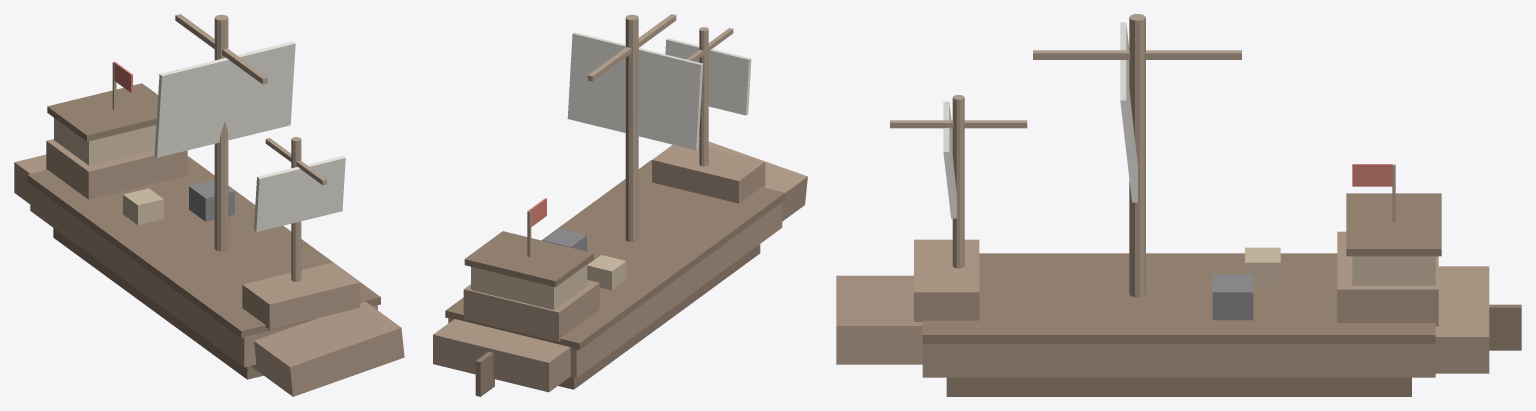
Rendered from SHIP.glb.
3 views of the same model, side by side, from view 1: azimuth 30°, elevation 25°; view 2: azimuth 150°, elevation 25°; view 3: azimuth 270°, elevation 25° (orthographic). The views are drawn at different scales.
Parts seen in each view (by area): view 1: SHIP; view 2: SHIP; view 3: SHIP.
Boxes of the visible parts, box(x1,y1,x2,y2) form: SHIP: box(14, 14, 404, 396); SHIP: box(433, 14, 807, 396); SHIP: box(836, 14, 1521, 396).
Bounding box in the file's own units: 1.62 × 3.22 × 5.75.
